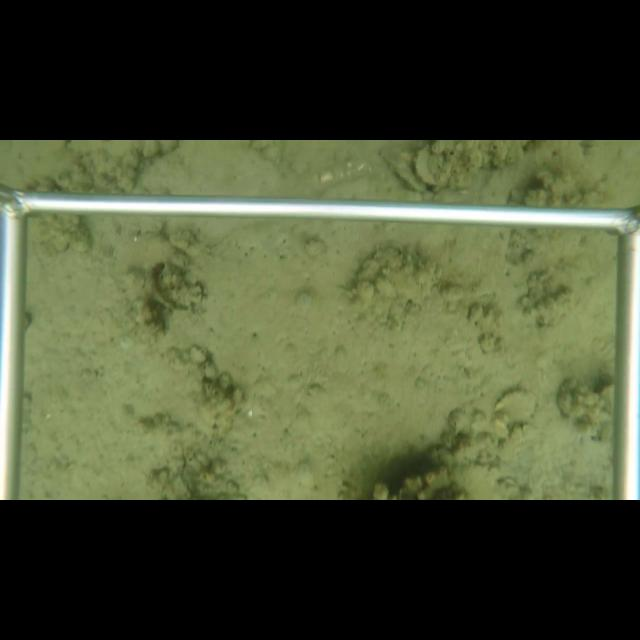Oyster-Closed: (378, 144, 426, 194), (495, 388, 540, 427), (411, 143, 441, 188)
